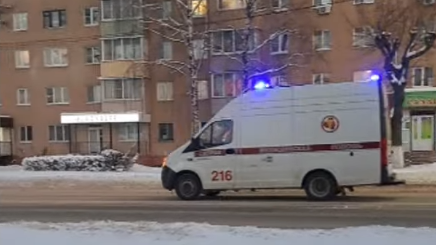ambulance: (162, 75, 392, 201)
